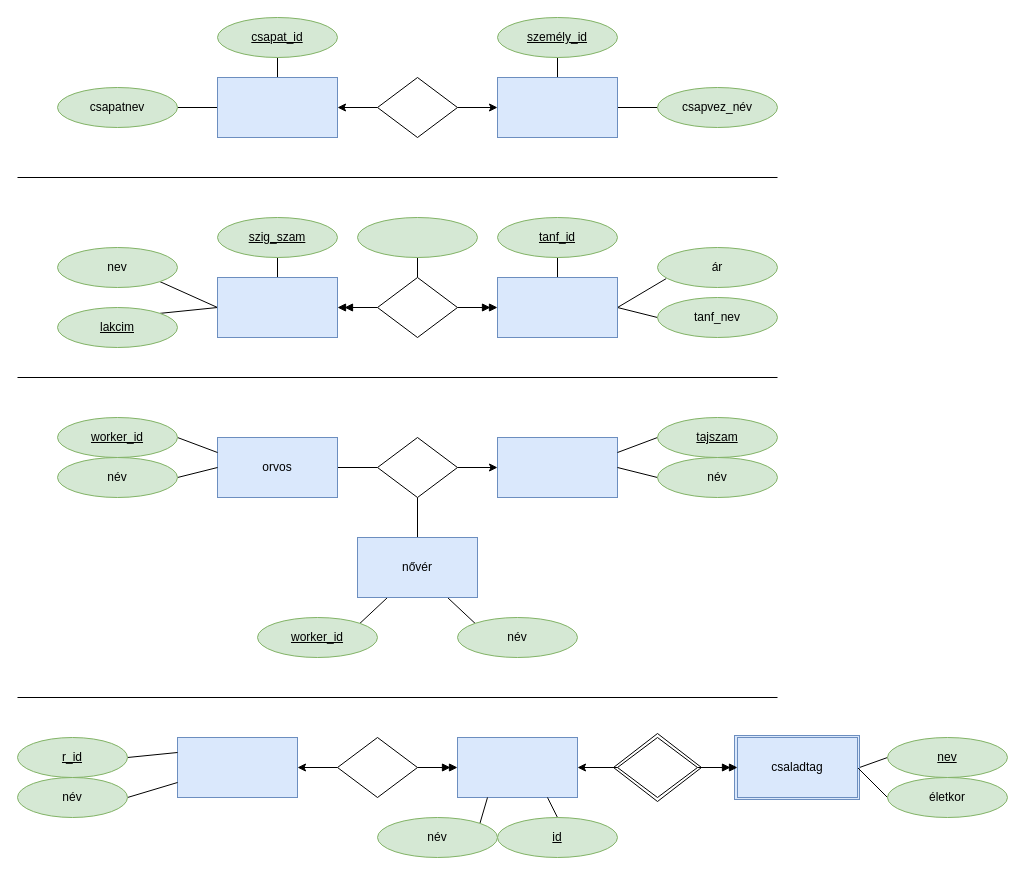
The diagram is 1025 pixels wide and 875 high, and some of its shapes have lost their labels. The shapes that lost their labels are listed below. From the top down, each one's centre as x and y in pixels, then its label:
At point (277, 107): "csapat".
At point (557, 107): "csapatvezető".
At point (417, 237): "befizetés".
At point (277, 307): "résztvevő".
At point (557, 307): "tanfolyam".
At point (417, 467): "vizsgálat".
At point (557, 467): "beteg".
At point (237, 767): "reszleg".
At point (517, 767): "dolgozo".
